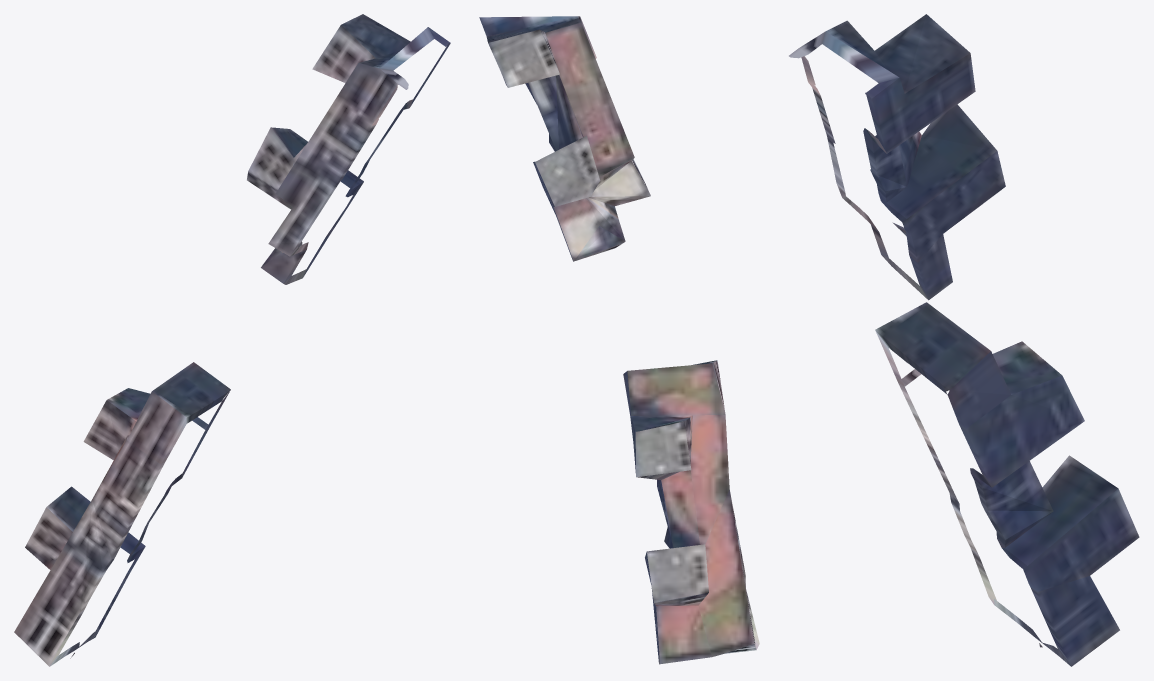
The picture shows the model from 3 angles, left to right: view 1: azimuth 30°, elevation 25°; view 2: azimuth 150°, elevation 25°; view 3: azimuth 270°, elevation 25°; orthographic projection. The views are drawn at different scales.
Size of the model in its own units: 73.85 by 117 by 48.16.
1 material, 1 textured.
